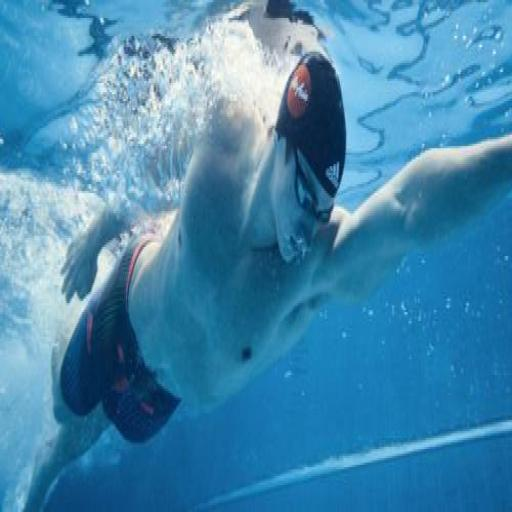swimming: (18, 45, 511, 510)
